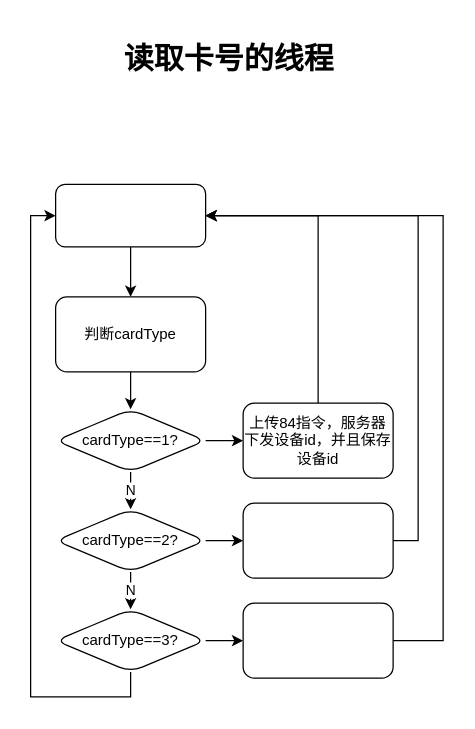
The diagram is 475 pixels wide and 729 high, and some of its shapes have lost their labels. Here are the shapes that lost their labels. From the top down, the centre of each, then its label:
At pixel 130 215: "读取卡号".
At pixel 317 540: "上传02指令卡号给服务器，".
At pixel 317 640: "将接收的卡号当做管理员卡，并且存到管理员卡数组里面".
